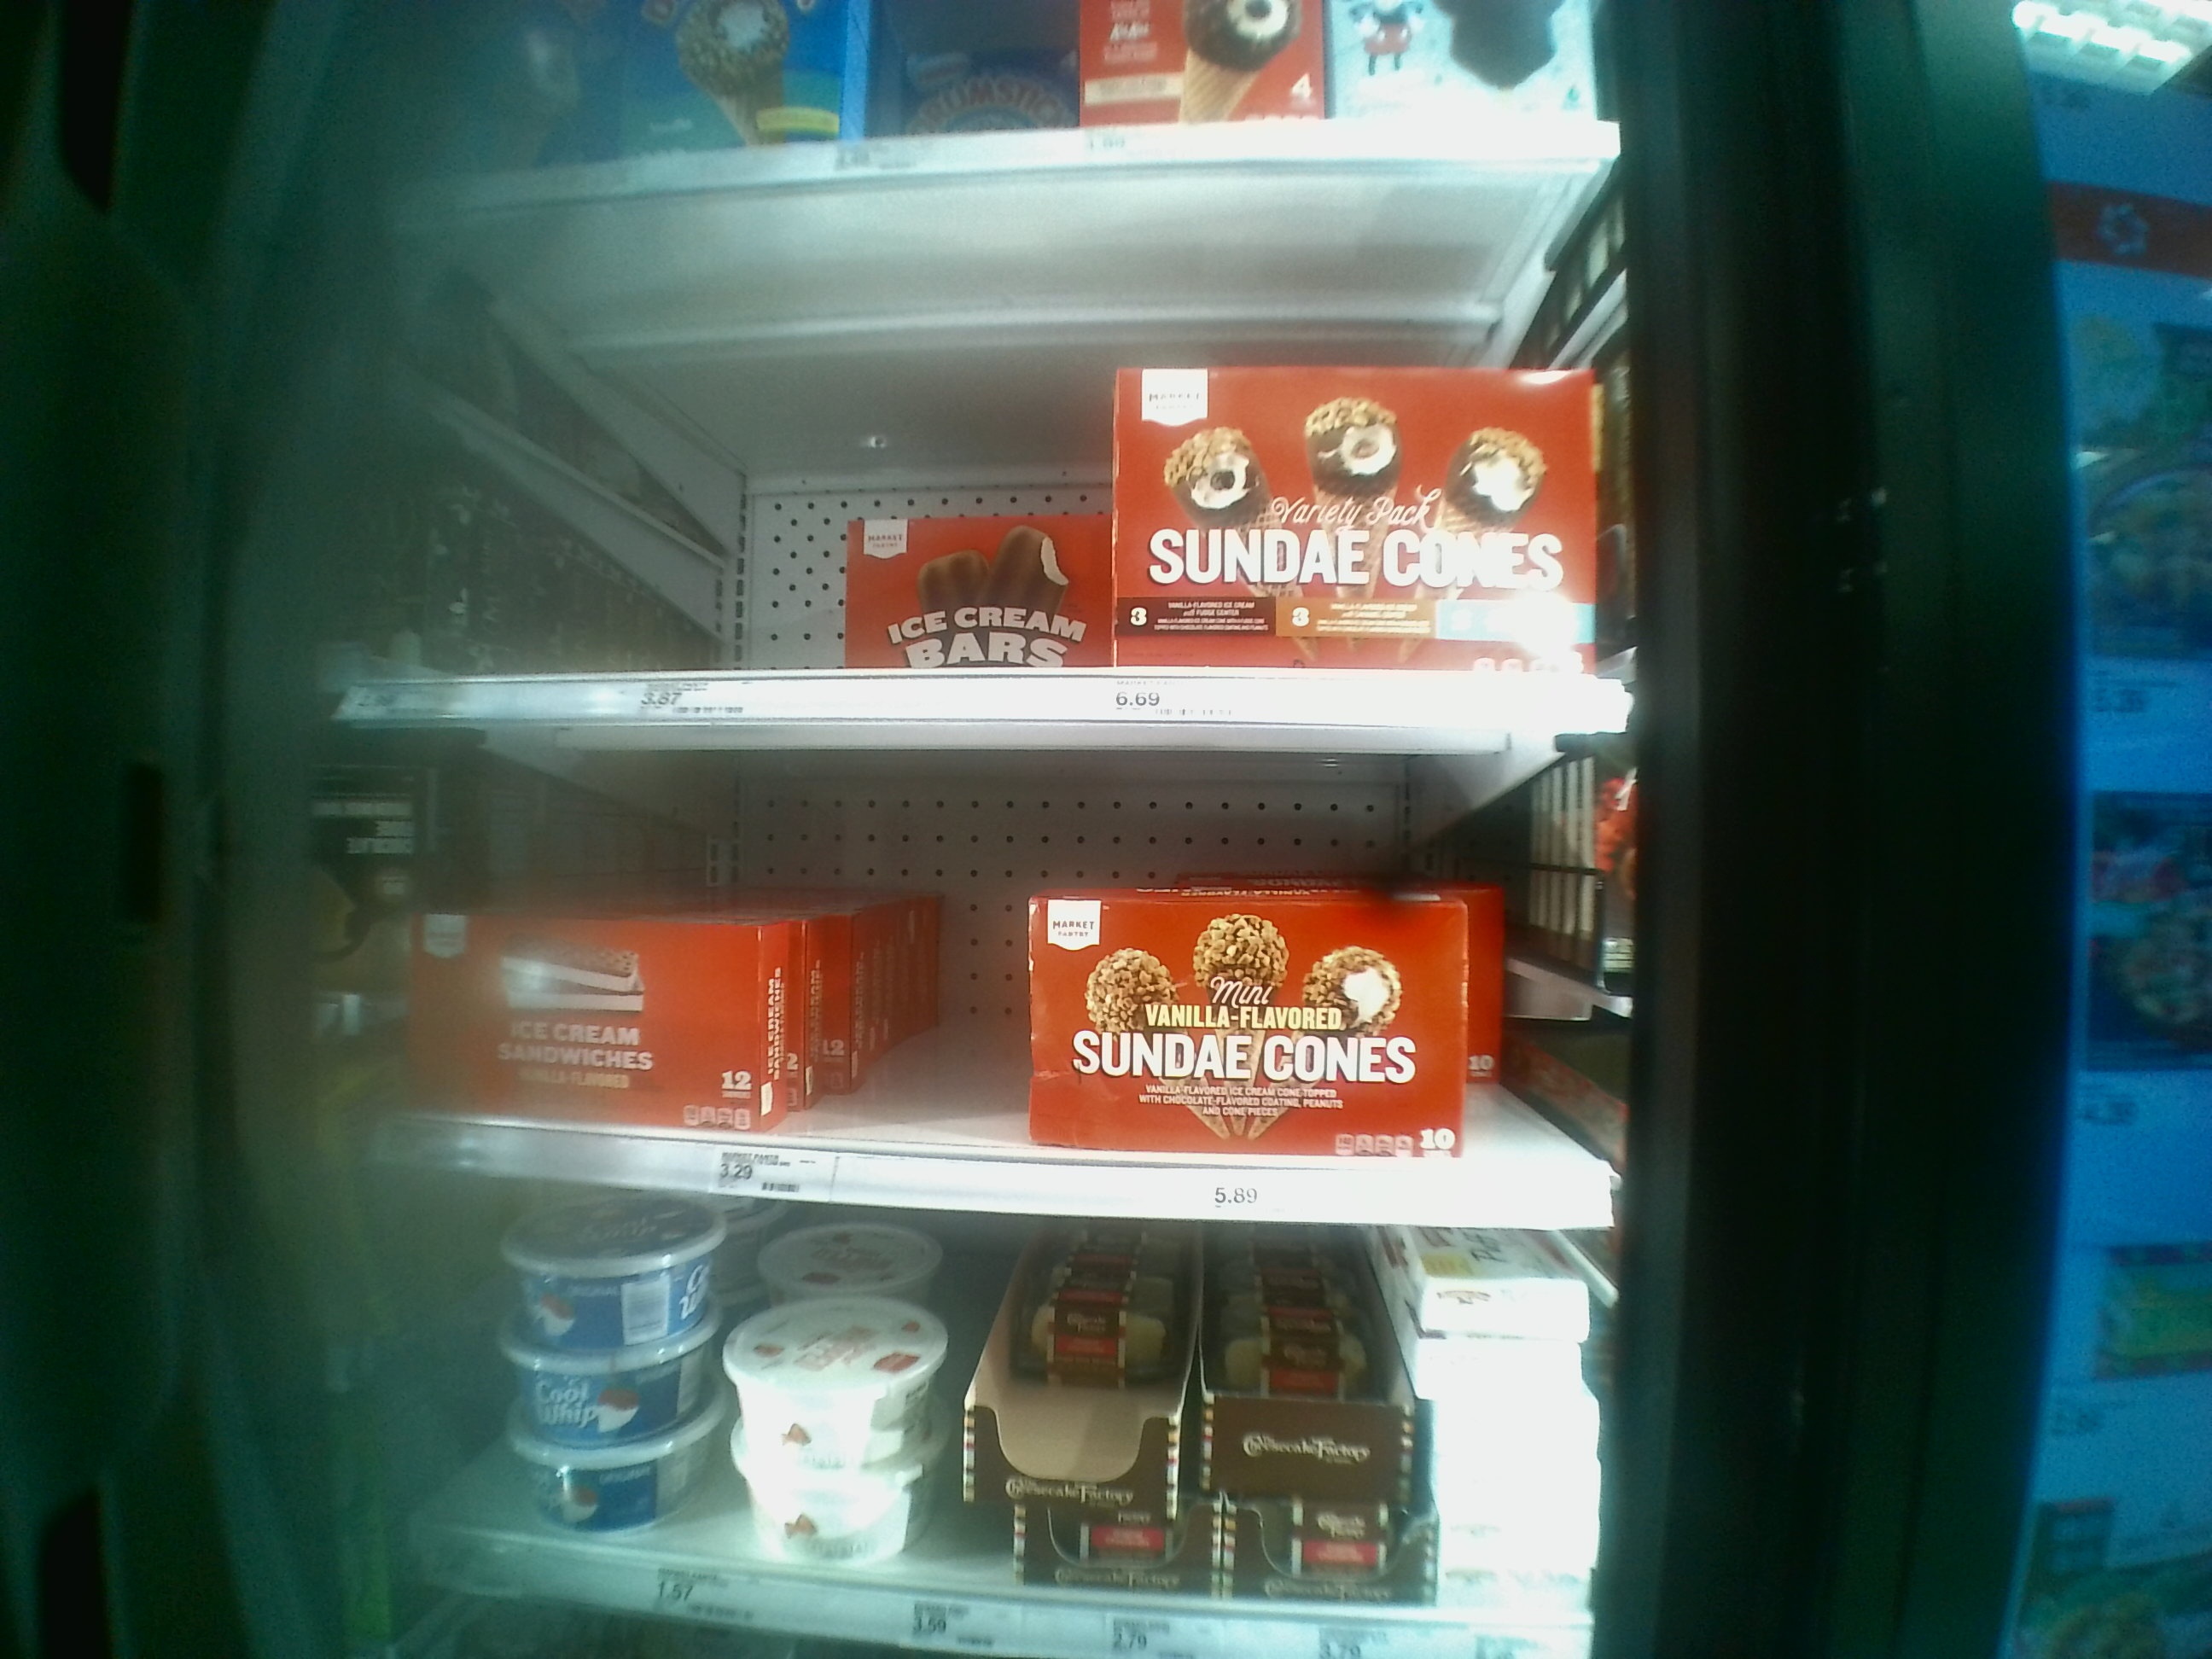shelf: (343, 153, 1649, 718), (334, 713, 1622, 1215)
